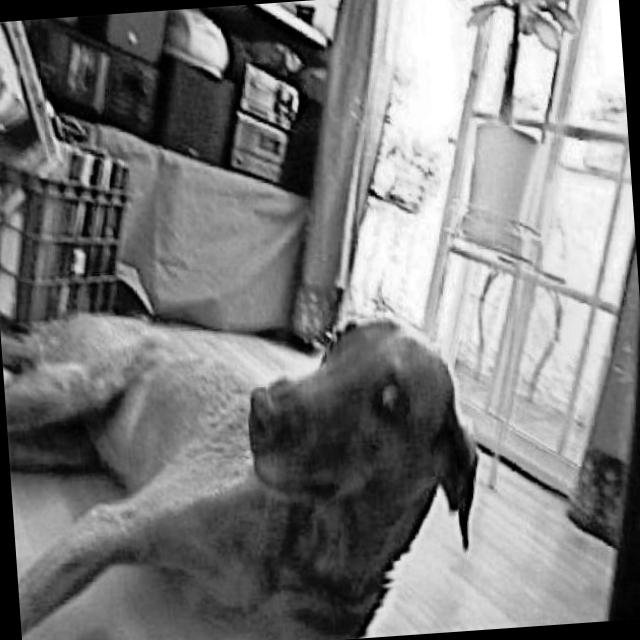Dog: (0, 253, 495, 640)
